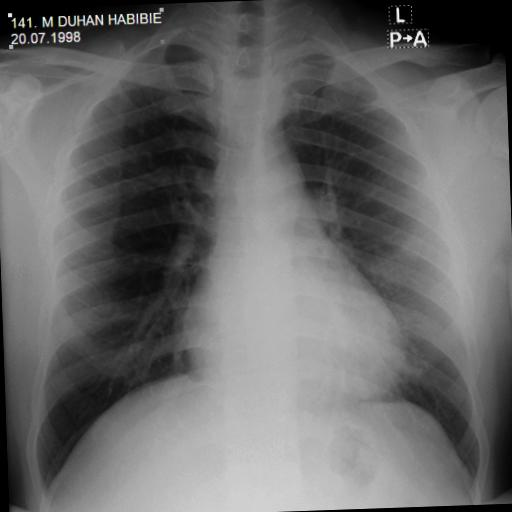kardiomegali: (6, 14, 490, 506)
